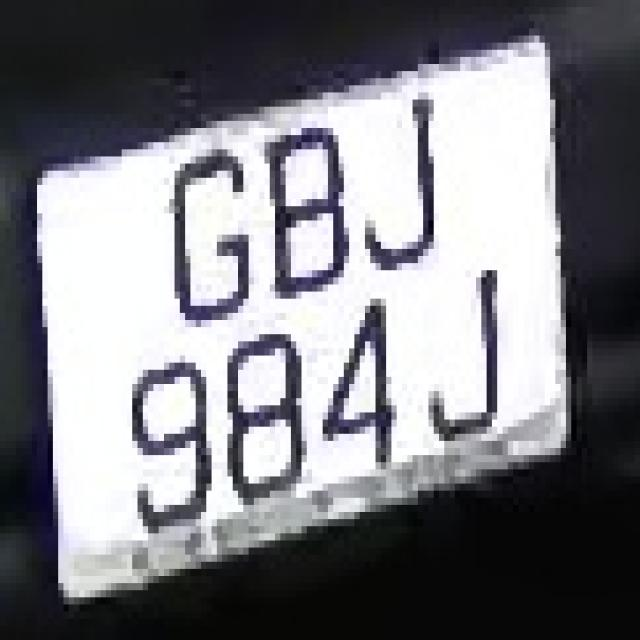4: (312, 298, 407, 498)
8: (212, 313, 318, 533)
9: (116, 356, 217, 548)
B: (259, 107, 365, 306)
G: (148, 114, 259, 356)
J: (354, 71, 460, 285), (423, 263, 518, 469)
